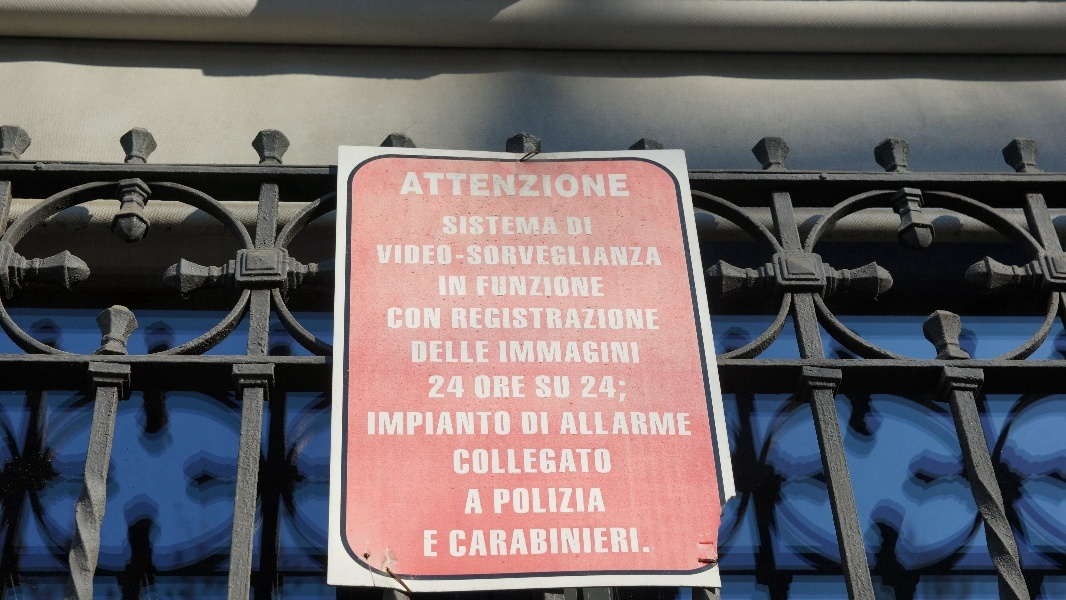text: (449, 527, 464, 557), (465, 527, 480, 557), (481, 527, 496, 557), (497, 527, 512, 557), (513, 527, 528, 557), (529, 527, 544, 557), (545, 527, 560, 557), (561, 527, 576, 557), (577, 527, 592, 557), (593, 527, 608, 557), (609, 527, 624, 557), (625, 527, 640, 557), (417, 171, 432, 198), (433, 171, 448, 198), (449, 171, 464, 198), (465, 171, 480, 198), (481, 171, 496, 198), (497, 171, 512, 198), (513, 171, 528, 198), (529, 171, 544, 198), (545, 171, 560, 198), (561, 171, 576, 198), (577, 171, 592, 198), (593, 171, 608, 198), (609, 171, 624, 198), (593, 376, 608, 403), (609, 376, 624, 403), (497, 487, 512, 514), (513, 487, 528, 514), (529, 487, 544, 514), (545, 487, 560, 514), (561, 487, 576, 514), (577, 487, 592, 514), (465, 448, 480, 475), (481, 448, 496, 475), (497, 448, 512, 475), (513, 448, 528, 475), (529, 448, 544, 475), (545, 448, 560, 475), (561, 448, 576, 475), (577, 448, 592, 475), (593, 448, 608, 475), (641, 527, 654, 557), (593, 487, 607, 514), (369, 411, 384, 436), (385, 411, 400, 436), (401, 411, 416, 436), (417, 411, 432, 436), (433, 411, 448, 436), (449, 411, 464, 436), (465, 411, 480, 436), (481, 411, 496, 436), (625, 341, 641, 364), (481, 375, 496, 399), (497, 375, 512, 399), (577, 412, 592, 436), (593, 412, 608, 436), (609, 412, 624, 436), (625, 412, 640, 436), (641, 412, 656, 436), (657, 412, 672, 436), (673, 412, 688, 436), (497, 411, 511, 436), (433, 376, 448, 399), (449, 376, 464, 399), (545, 376, 560, 399), (529, 412, 544, 435), (465, 308, 480, 331), (481, 308, 496, 331), (497, 308, 512, 331), (513, 308, 528, 331), (529, 308, 544, 331), (545, 308, 560, 331), (561, 308, 576, 331), (577, 308, 592, 331), (593, 308, 608, 331), (609, 308, 624, 331), (625, 308, 640, 331), (641, 308, 656, 331), (513, 341, 528, 364), (529, 341, 544, 364), (545, 341, 560, 364), (561, 341, 576, 364), (577, 341, 592, 364), (593, 341, 608, 364), (609, 341, 624, 364), (417, 341, 432, 363), (433, 341, 448, 363), (449, 341, 464, 363), (465, 341, 480, 363), (481, 276, 496, 297), (497, 276, 512, 297), (513, 276, 528, 297), (529, 276, 544, 297), (545, 276, 560, 297), (561, 276, 576, 297), (577, 276, 592, 297), (401, 308, 416, 329), (417, 308, 432, 329), (385, 244, 400, 265), (401, 244, 416, 265), (417, 244, 432, 265), (433, 244, 448, 265), (481, 245, 496, 266), (497, 245, 512, 266), (513, 245, 528, 266), (529, 245, 544, 266), (545, 245, 560, 266), (561, 245, 576, 266), (577, 245, 592, 266), (593, 245, 608, 266), (609, 245, 624, 266), (625, 245, 640, 266), (641, 245, 656, 266), (513, 375, 526, 399), (577, 217, 593, 236), (449, 216, 464, 236), (465, 216, 480, 236), (481, 216, 496, 236), (497, 216, 512, 236), (513, 216, 528, 236), (529, 216, 544, 236), (449, 276, 464, 296), (451, 308, 464, 331), (499, 341, 512, 364), (581, 376, 592, 403), (564, 412, 576, 436), (469, 489, 480, 515), (545, 216, 559, 236), (467, 245, 480, 266), (454, 448, 464, 475), (593, 276, 605, 297), (388, 308, 400, 329), (407, 171, 416, 198), (561, 376, 571, 399), (424, 530, 432, 557), (481, 341, 490, 363), (536, 376, 544, 399), (439, 276, 448, 296), (567, 217, 576, 236), (433, 308, 441, 329), (376, 244, 384, 265), (522, 412, 528, 435), (625, 171, 630, 198), (433, 530, 438, 557), (475, 375, 480, 399), (411, 341, 416, 363), (609, 448, 613, 475), (657, 245, 662, 266), (443, 216, 448, 236), (689, 412, 693, 436), (545, 412, 549, 435), (449, 244, 453, 265), (625, 376, 628, 403), (481, 489, 484, 515), (657, 308, 660, 331), (477, 276, 480, 297), (494, 487, 496, 514), (430, 376, 432, 399), (465, 276, 467, 296), (456, 255, 464, 259), (465, 376, 466, 399)
